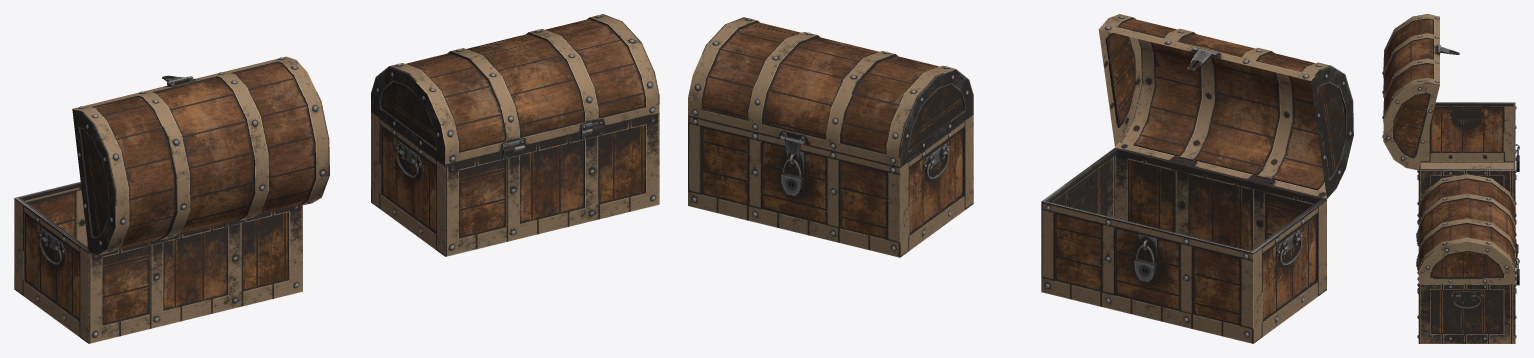
The model's file is chest_11mb.glb.
The picture shows the model from 3 angles, left to right: view 1: azimuth 30°, elevation 25°; view 2: azimuth 150°, elevation 25°; view 3: azimuth 270°, elevation 25°; orthographic projection. The views are drawn at different scales.
Size of the model in its own units: 1156 by 437 by 367.
1 material, 1 textured.
